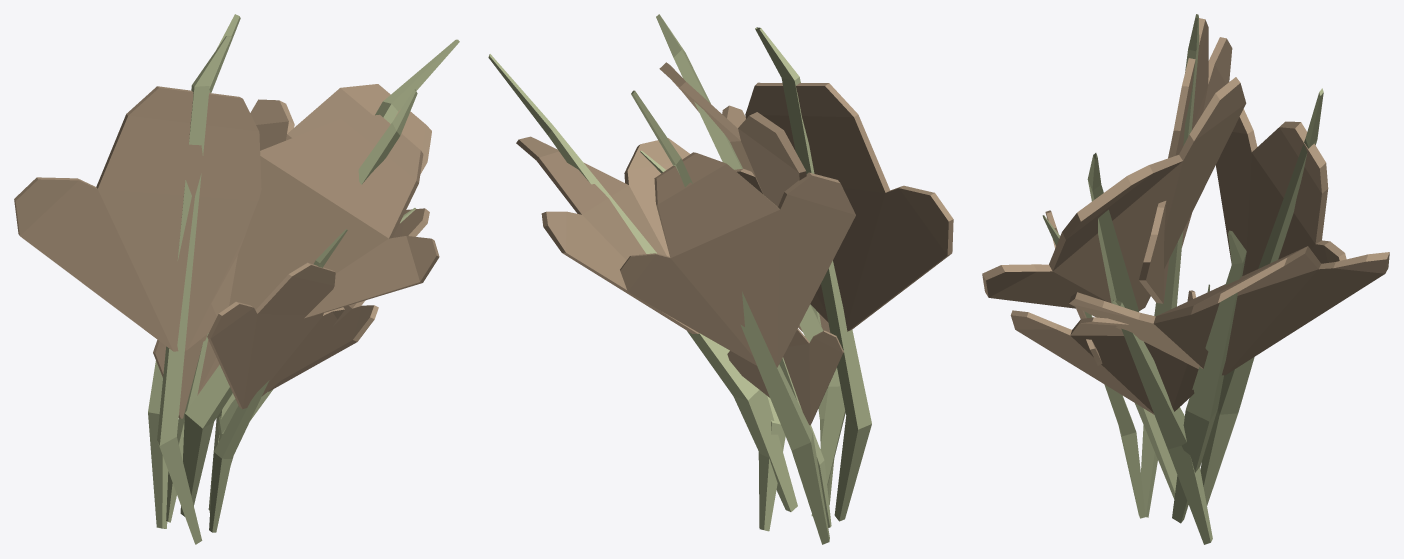
Rendered from Carrot_Dry_3.fbx.
The picture shows the model from 3 angles, left to right: view 1: azimuth 30°, elevation 25°; view 2: azimuth 150°, elevation 25°; view 3: azimuth 270°, elevation 25°; orthographic projection. The views are drawn at different scales.
Parts seen in each view (by area): view 1: 3_Dry_Carrot; view 2: 3_Dry_Carrot; view 3: 3_Dry_Carrot.
Part boxes in pixels (bbox=[...]): 3_Dry_Carrot: bbox=[14, 14, 459, 544]; 3_Dry_Carrot: bbox=[488, 14, 953, 544]; 3_Dry_Carrot: bbox=[982, 14, 1389, 544].
Size of the model in its own units: 19.91 by 20.48 by 14.13.
